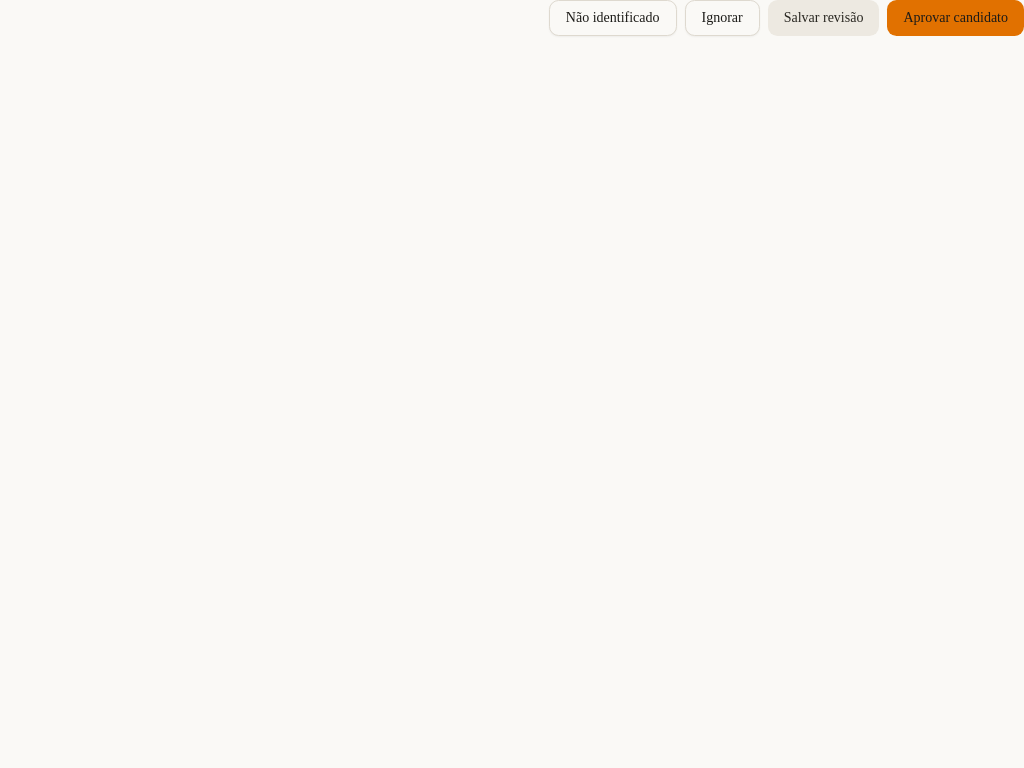
Test case: Candidate decision safeguards › keeps individual actions associated with the review form and confirms ignore
Step 1. Click the button "Ignorar" → (722, 18), box [684,0,760,36]
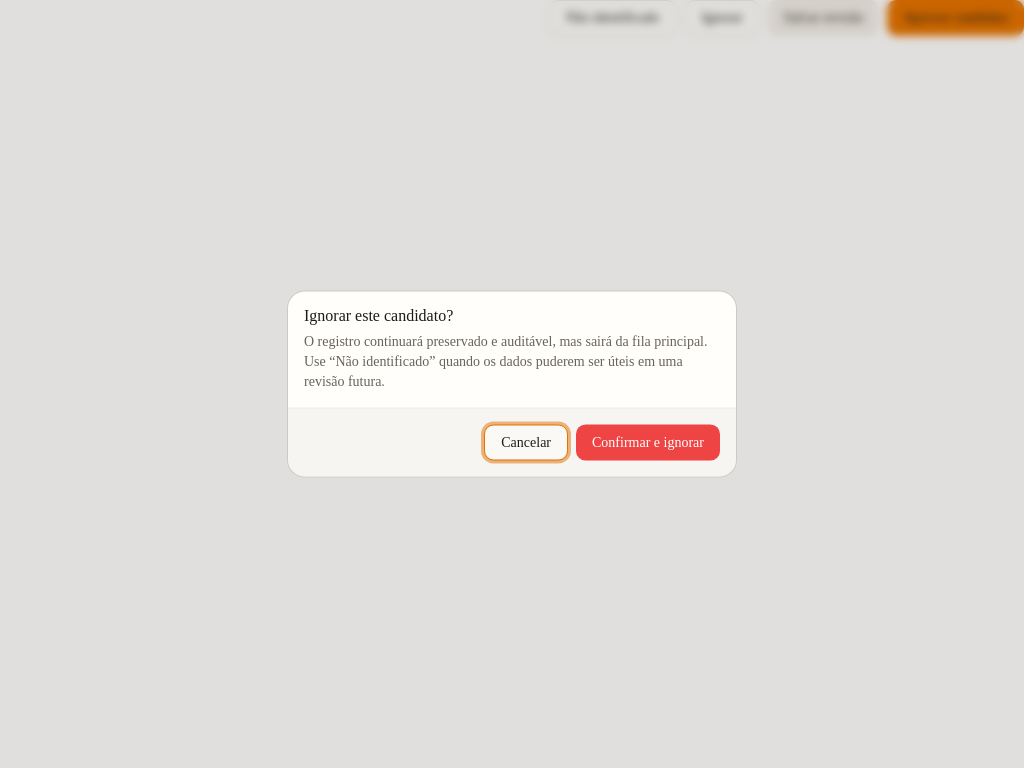
Check: the dialog is shown, box [288,292,736,476]
